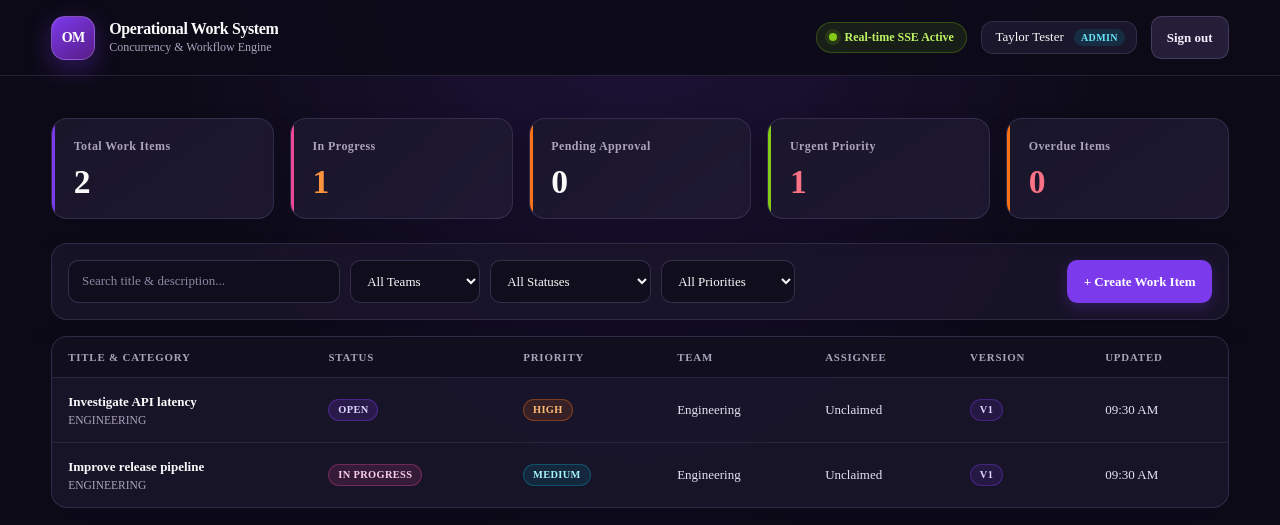
Test: dashboard work-item workflows › applies search, team, status, and priority filters to the list request
The image size is (1280, 525).
Expected: the text "Improve release pipeline" is shown, [68,459,204,474]
Type "latency" into the field with placeholder "Search title & description..." at (204, 281), box [68,260,340,303]
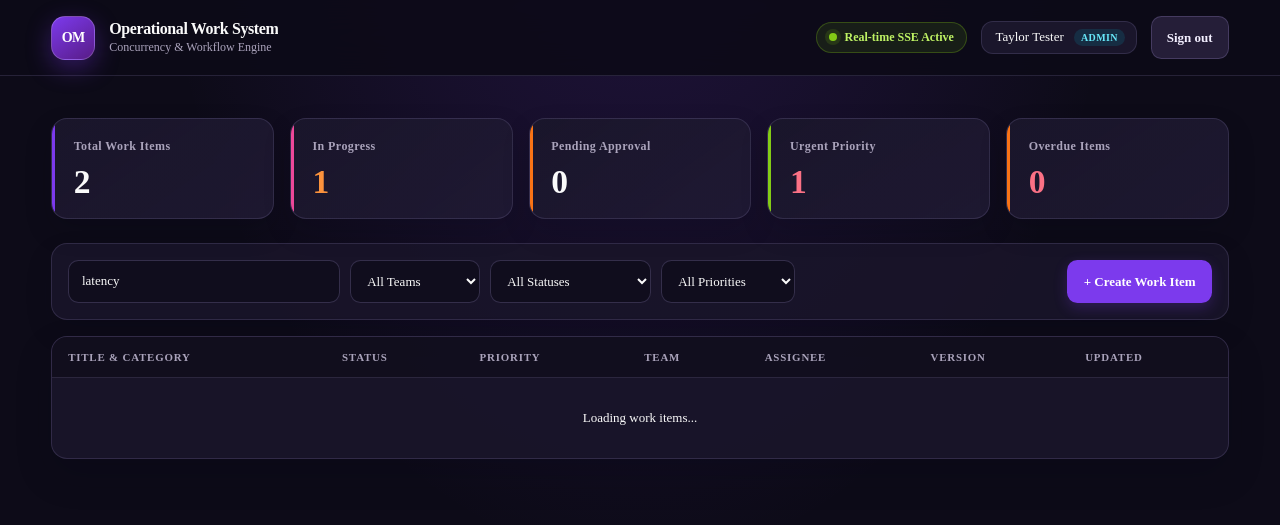
Select "Engineering" in the 1st dropdown at (415, 281), box [350,260,480,303]
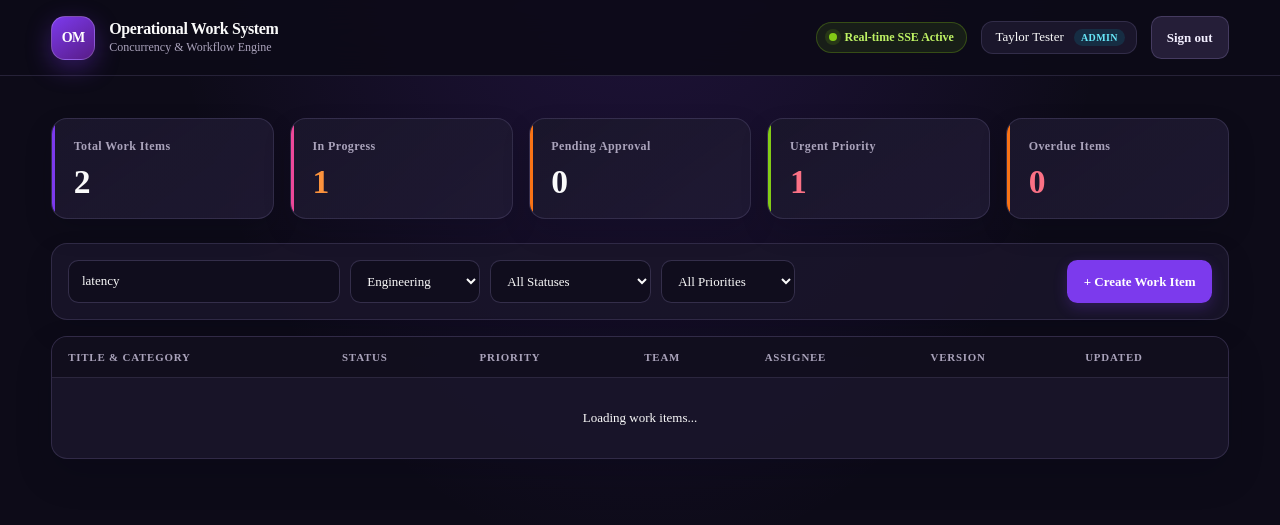
Select "Open" in the 2nd dropdown at (571, 281), box [490,260,651,303]
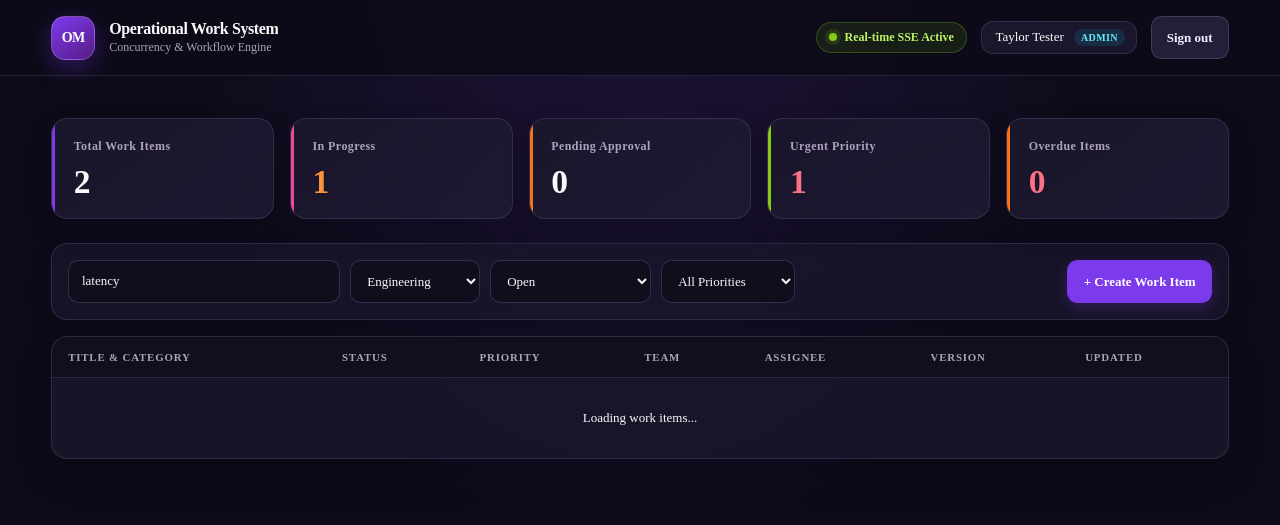
Select "High" in the 3rd dropdown at (728, 281), box [661,260,795,303]
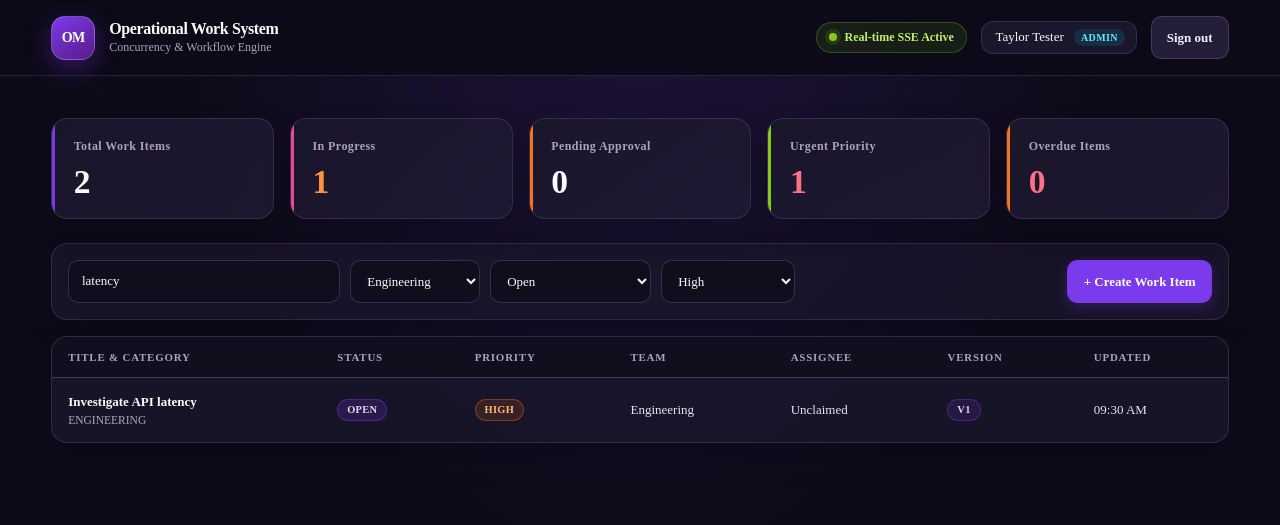
Expected: the text "Investigate API latency" is shown, [68,394,197,409]
Expected: the text "OPEN" is shown, [337,399,387,421]
Expected: the text "HIGH" is shown, [475,399,524,421]
